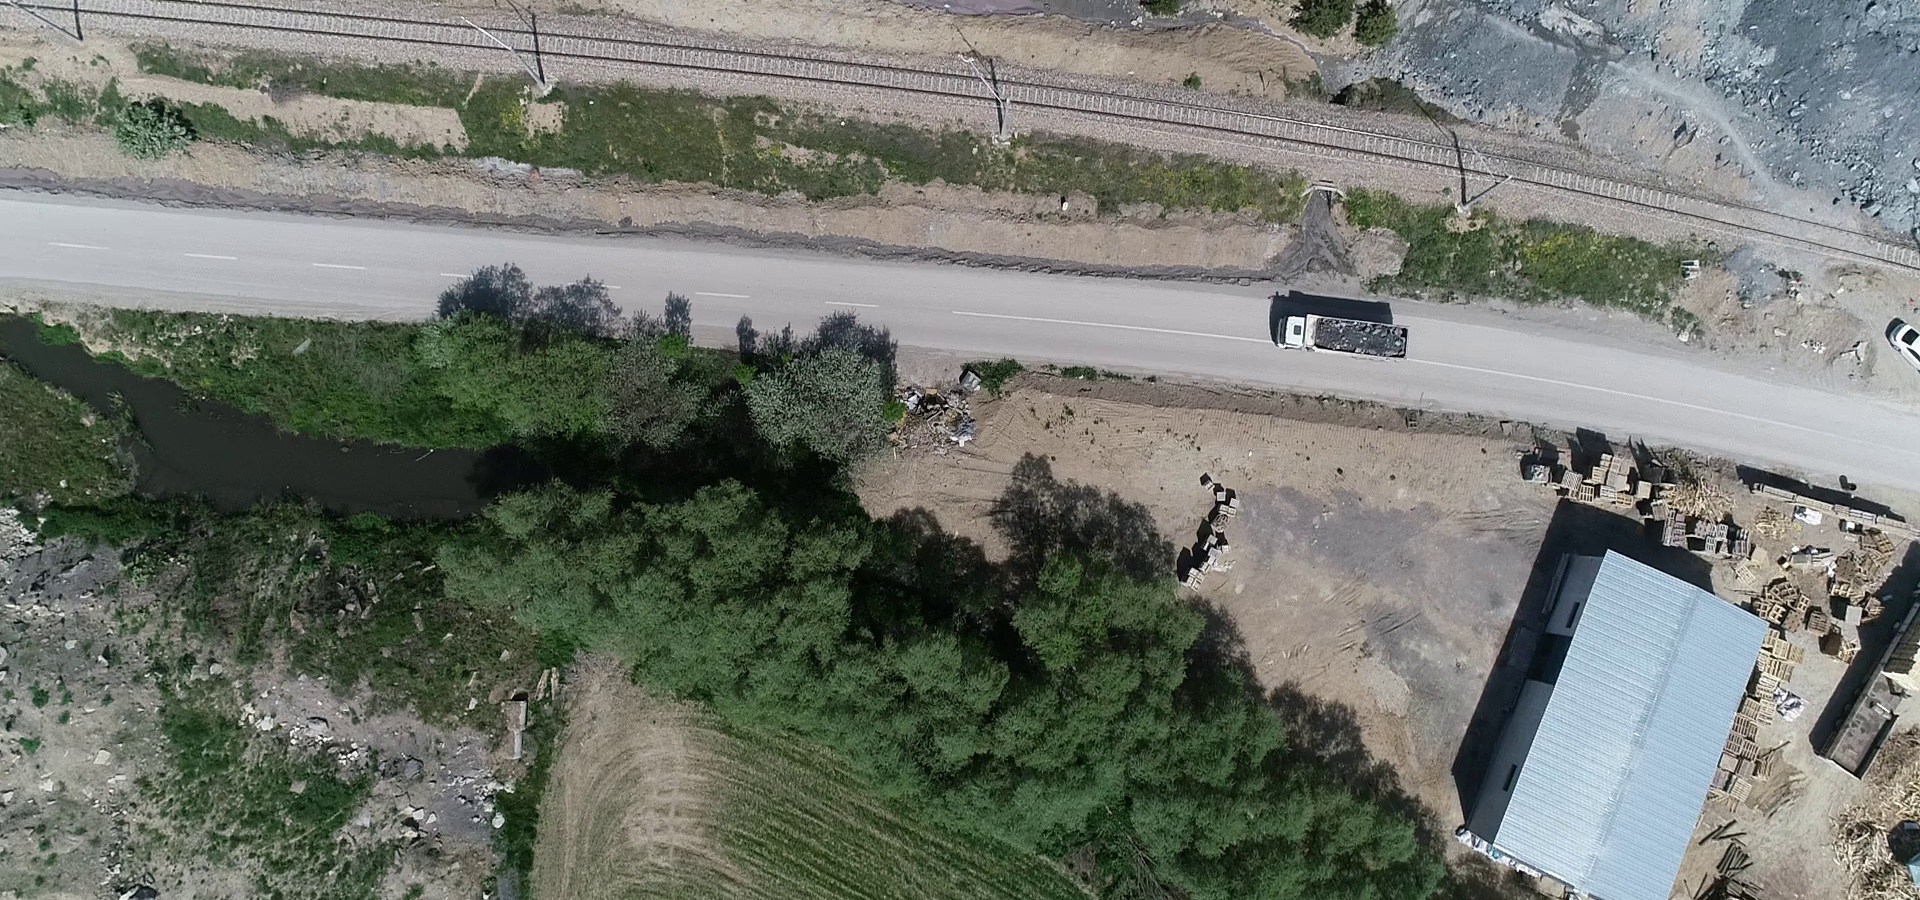kamyon: (1270, 302, 1407, 371)
